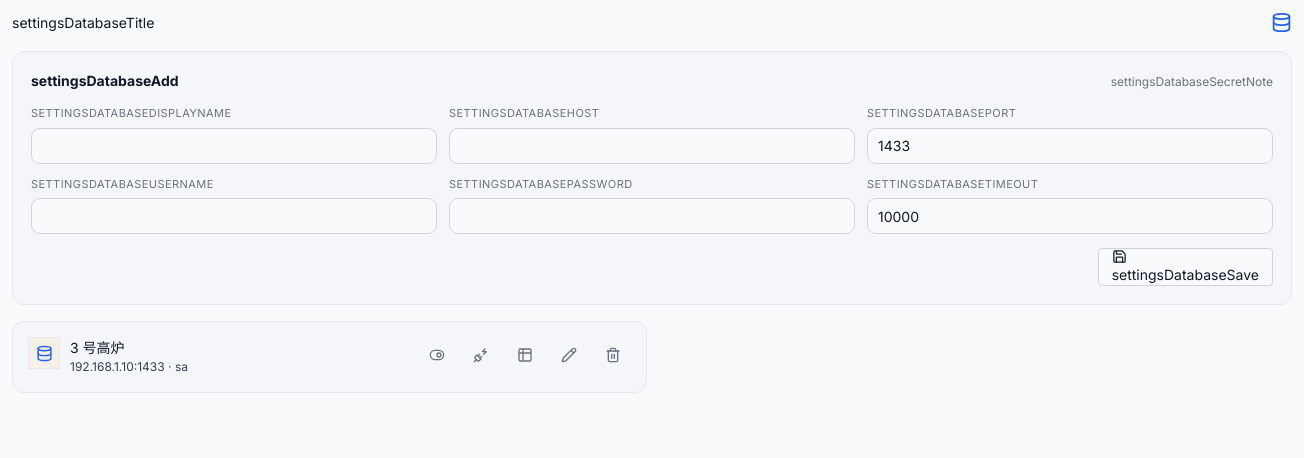
Test: DatabaseConnectionsPanel › deletes a connection after confirmation
The width and height of the screenshot is (1304, 458).
Step 1. Click the button named "settingsDatabaseDelete" → (613, 355), box [595,337,631,373]
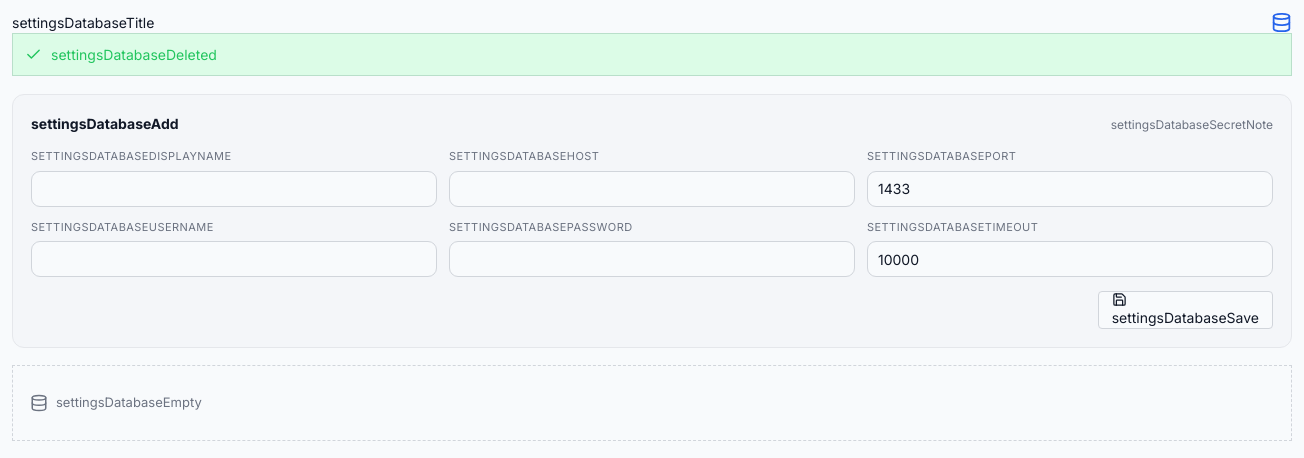
Result: the text "settingsDatabaseDeleted" is shown at [51,44,217,65]
